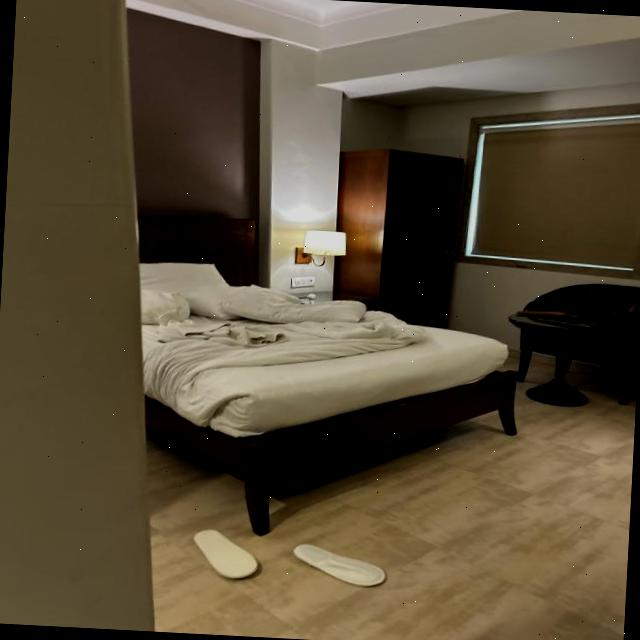Disorganized_pillow: (140, 265, 368, 326)
chair: (506, 270, 640, 412)
lamp: (303, 224, 354, 282)
mess: (185, 522, 402, 596), (182, 309, 424, 356)
messy_bed: (138, 217, 518, 538)
organized table: (514, 308, 628, 411)
